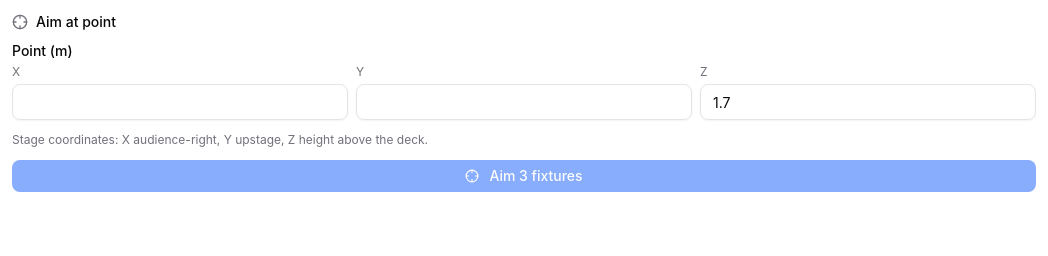
Test: StageAimControls › says the desk’s skips one line per reason
Type "0" into the number field labelled "X" at (180, 102), box [12,84,348,120]
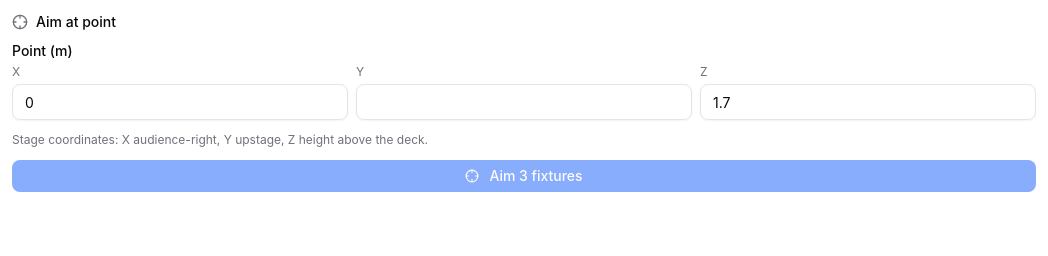
Type "0" into the number field labelled "Y" at (524, 102), box [356,84,692,120]
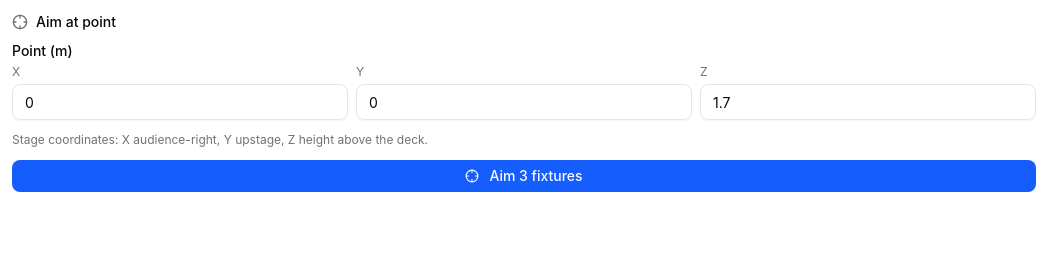
Click the button "Aim 3 fixtures" at (524, 176), box [12,160,1036,192]
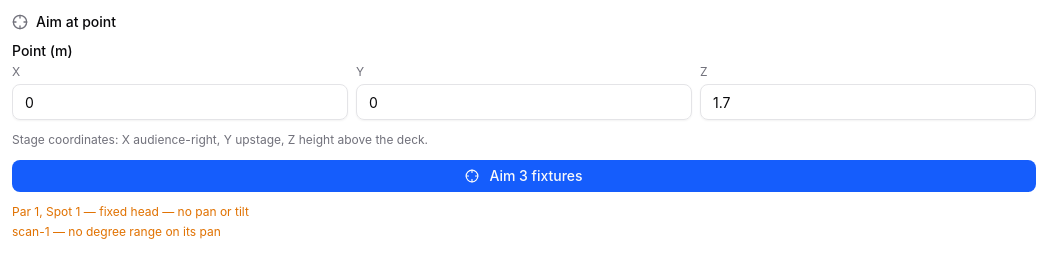
Result: the text "Par 1, Spot 1 — fixed head — no pan or tilt" is shown at [12,204,249,219]
Result: the text "scan-1 — no degree range on its pan" is shown at [12,224,221,239]
